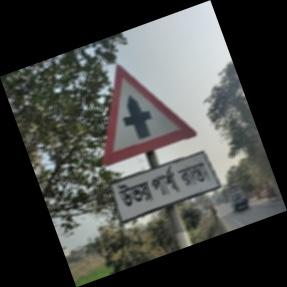Crossroad: (101, 62, 219, 227)
